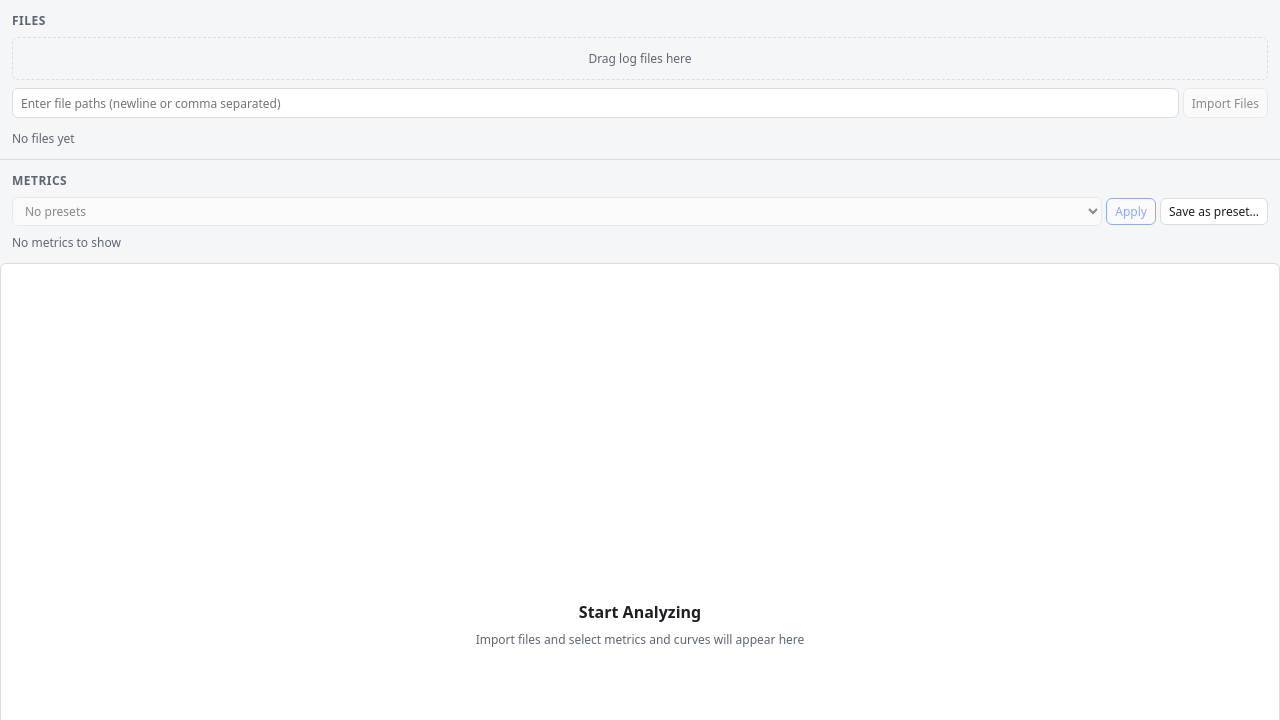
Test: TimelineChart (ipc-ui.md §4.4/§5) › shows the no-metrics hint when files exist but nothing is selected
The width and height of the screenshot is (1280, 720).
Type "C:\\data\\hint.csv" into the field with test id "path-input" at (595, 103), box [12,88,1179,118]
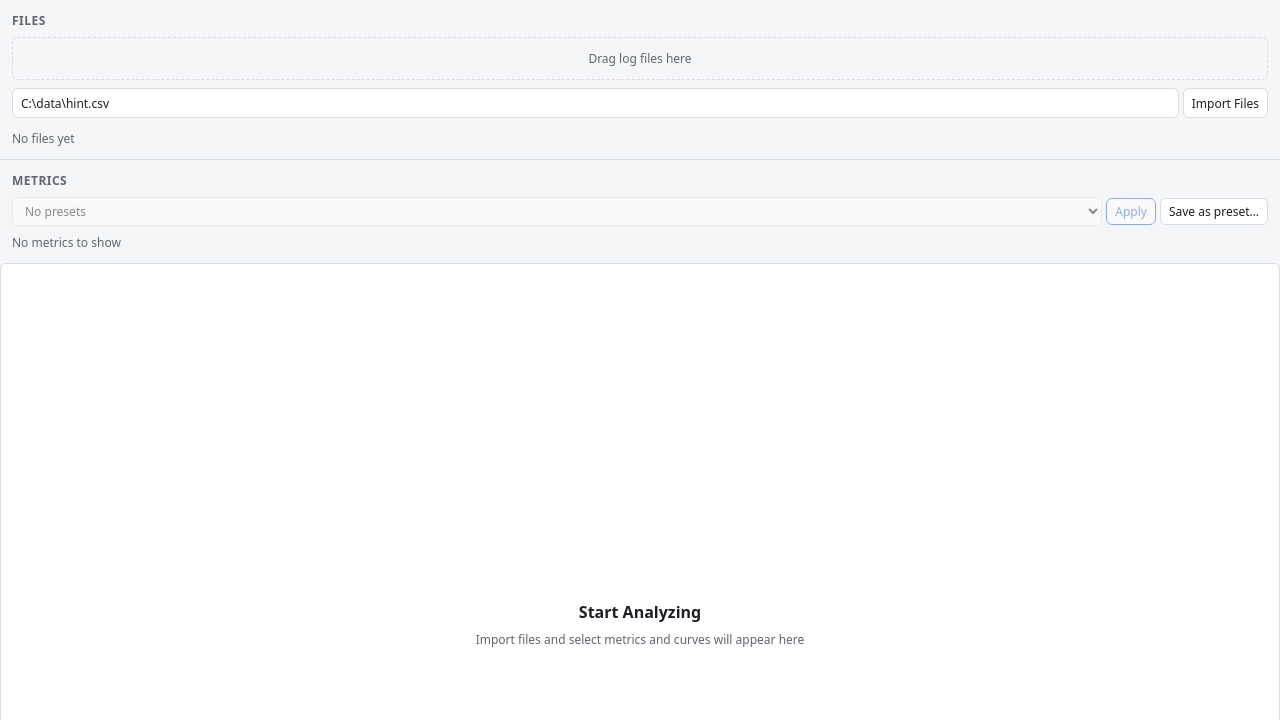
Click the button "Import Files" at (1225, 103), box [1183,88,1268,118]
Wait 10500 ms
(page scrolled)
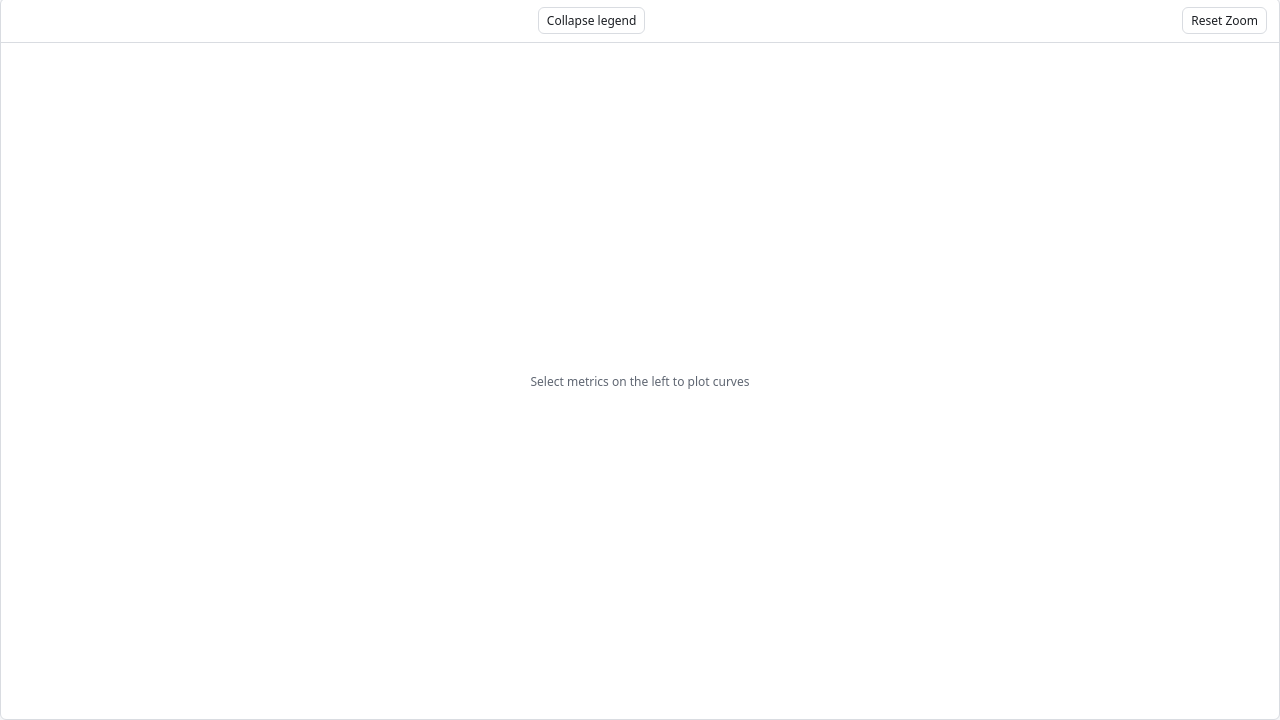
Expected: the text "Select metrics on the left to plot curves" is shown, [530,372,750,390]
